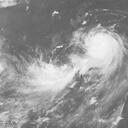cyclone: (84, 31, 120, 69)
